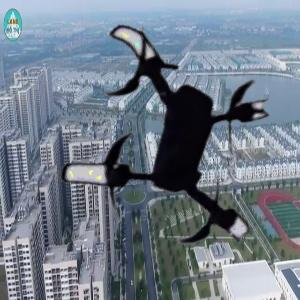drone: (35, 16, 285, 266)
